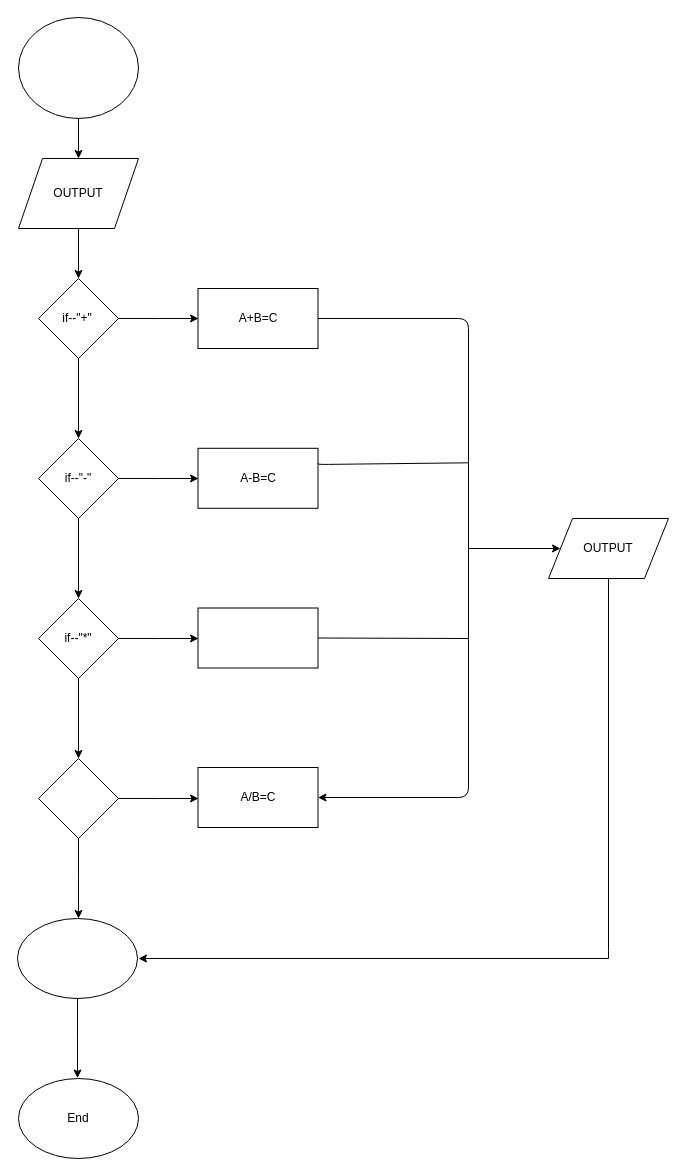
The diagram is 686 pixels wide and 1176 high, and some of its shapes have lost their labels. Each missing label, with the centre of its shape:
A*B=C: the point at 257,637
if--"/": the point at 78,798
START: the point at 78,67
STOP: the point at 77,958
